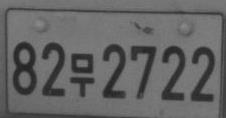2: (190, 45, 215, 102), (160, 45, 185, 101), (102, 42, 126, 98), (41, 41, 65, 96)
7: (130, 45, 157, 99)
8: (11, 40, 37, 95)
무: (70, 52, 95, 97)
